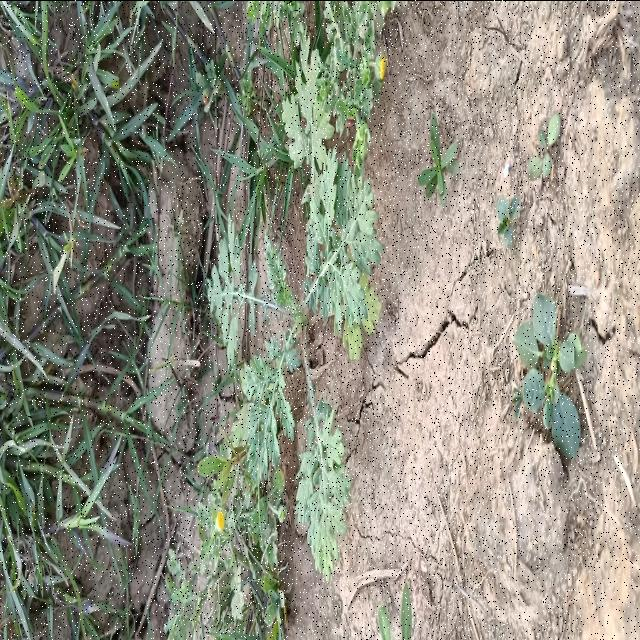plant: (208, 216, 351, 578), (261, 0, 391, 357)
